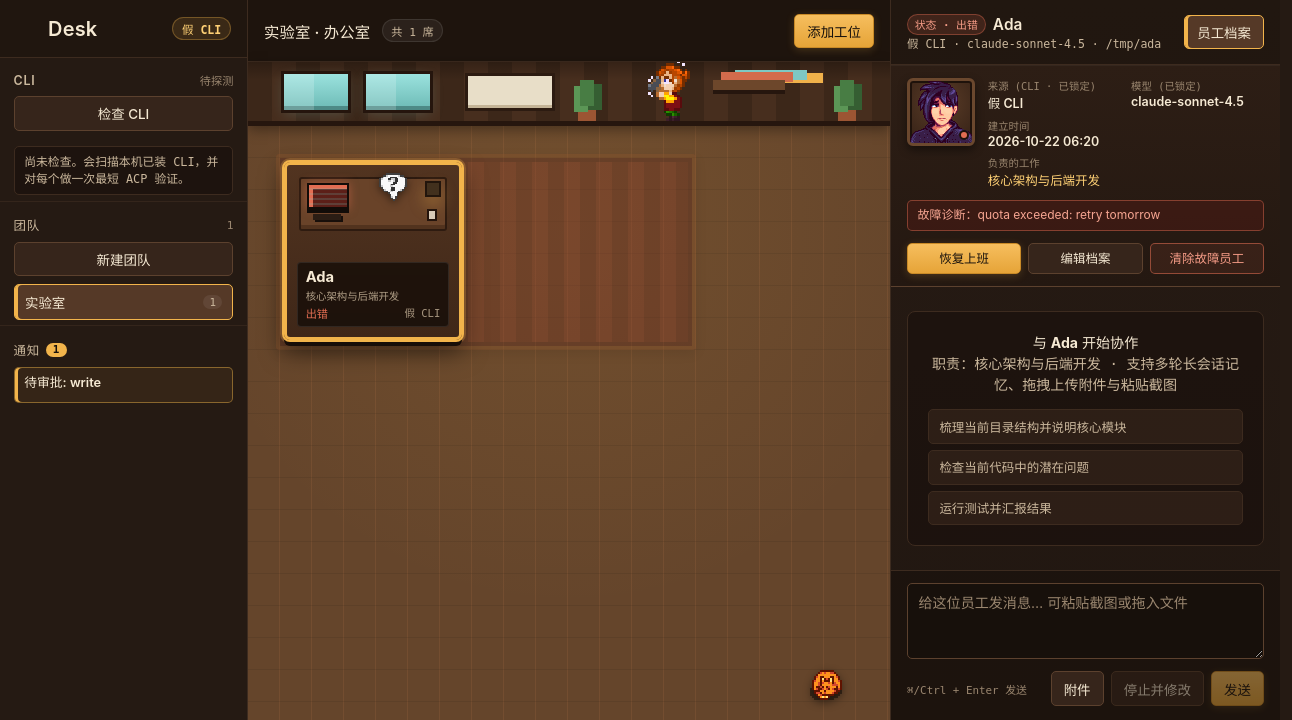
Desk 前端 › 员工档案展示照片、来源、模型、建立时间、负责的工作，并支持编辑与清除故障员工
Expected: the element named "员工档案" is shown, [891,65,1280,287]
Expected: the picture named "Ada 员工照片" is shown, [910,81,974,145]
编辑档案并保存（模型与来源已锁定，不可编辑）
Click the button "编辑档案" at (1086, 258), box [1028,243,1143,274]
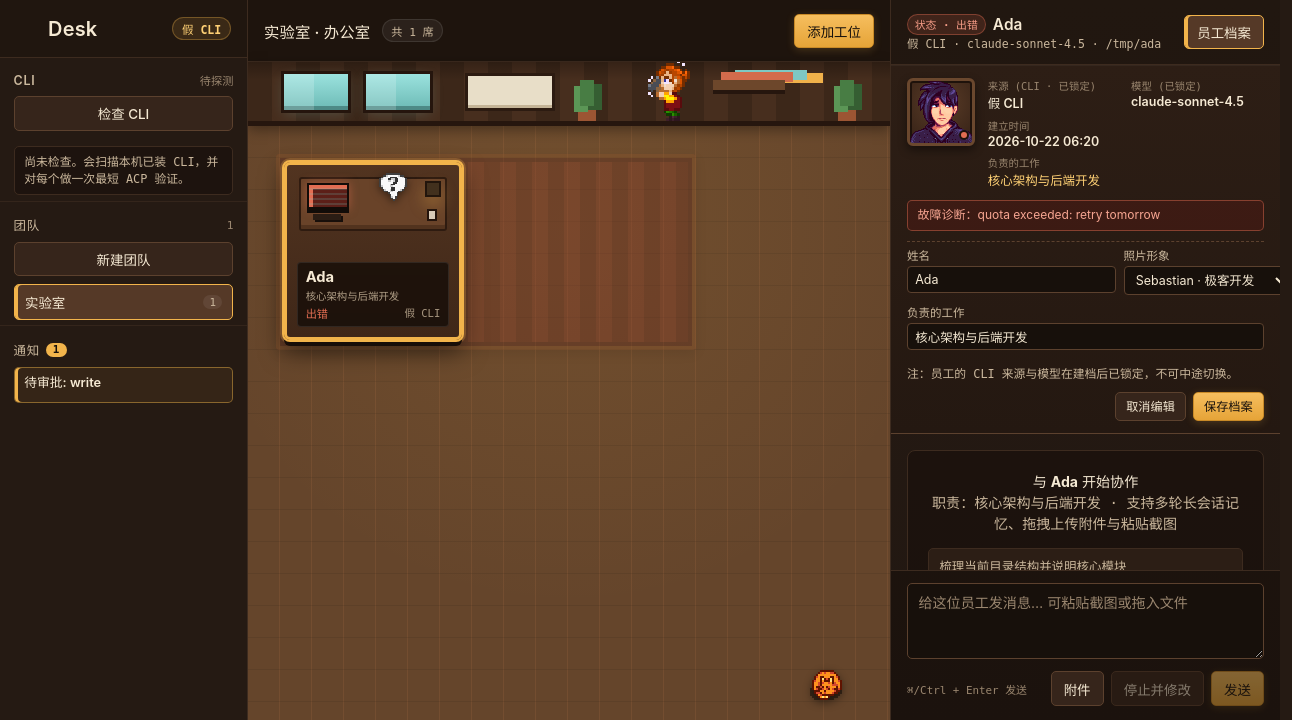
Replace the text in the field named "档案职责" with "自动化测试与排障" at (1086, 337), box [907,323,1264,350]
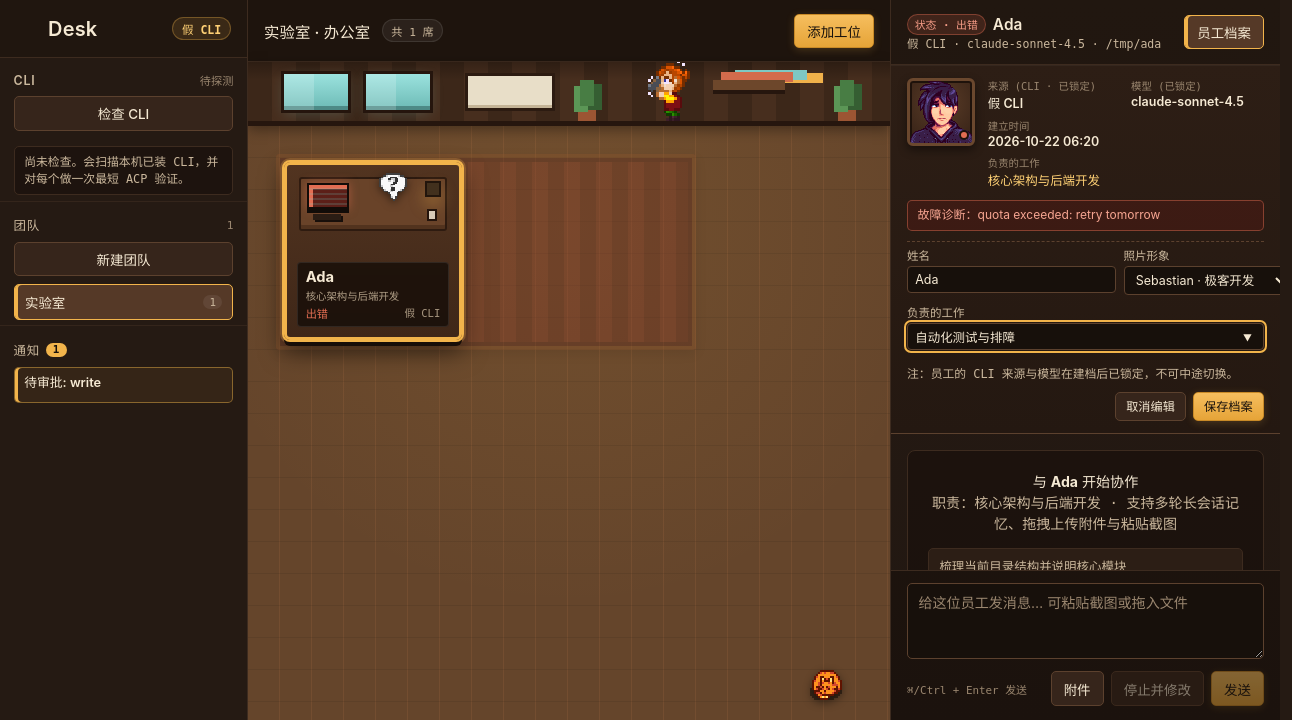
Click the button "保存档案" at (1228, 406), box [1193,392,1264,421]
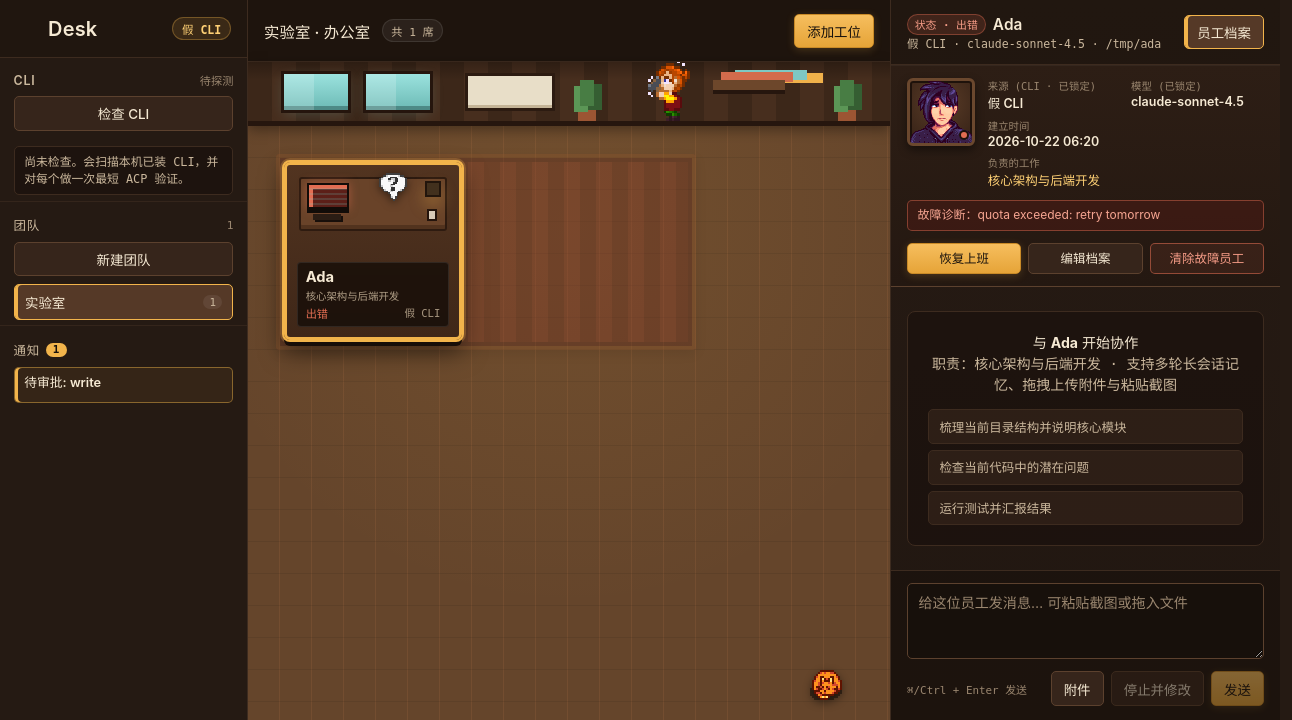
Click the button "清除故障员工" at (1207, 258), box [1150,243,1264,274]
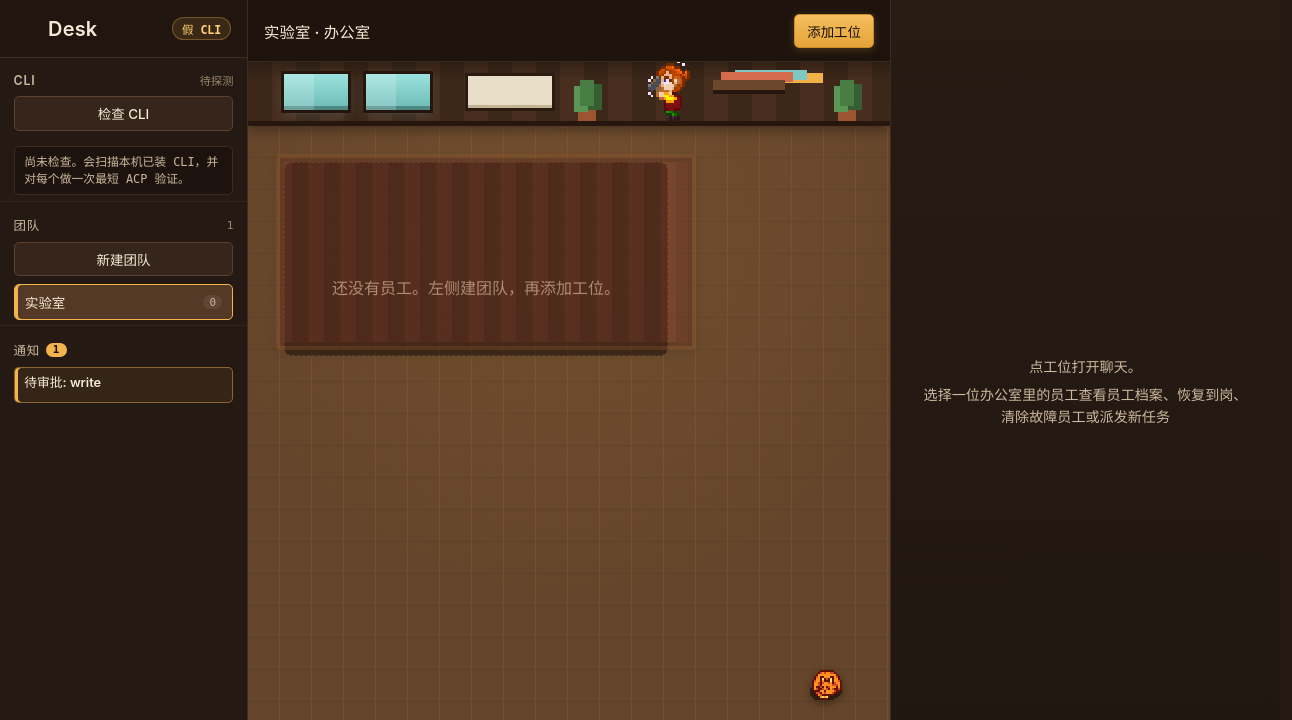
Result: the text "还没有员工。左侧建团队，再添加工位。" is shown at [332,278,620,298]
